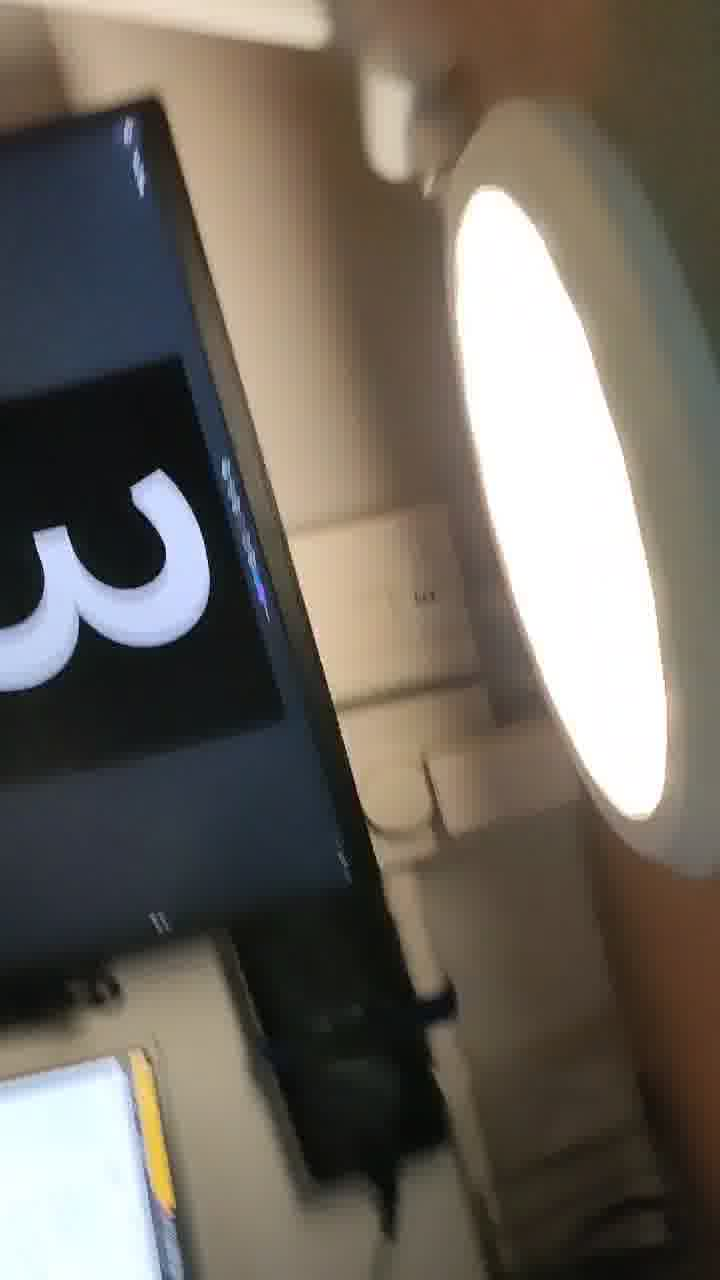three: (1, 215, 220, 734)
